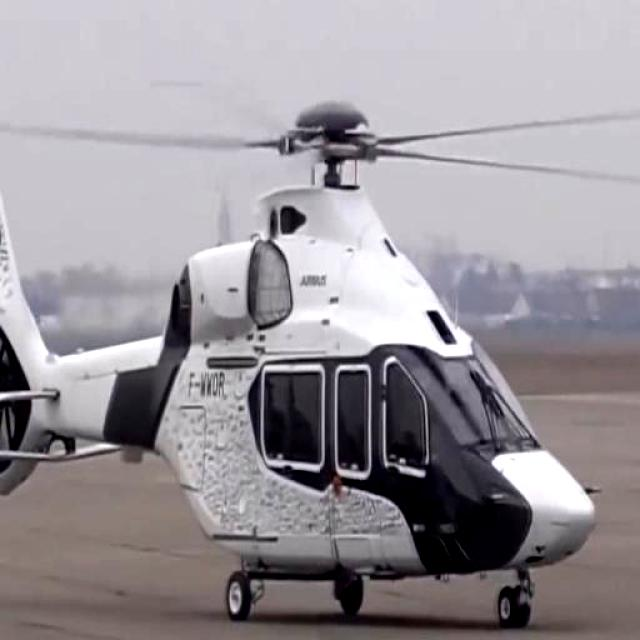drone: (0, 78, 640, 640)
